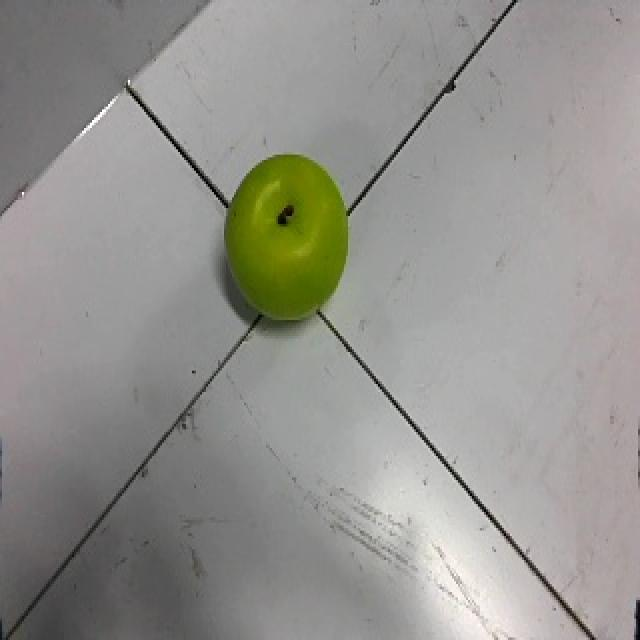apple: (220, 147, 352, 327)
